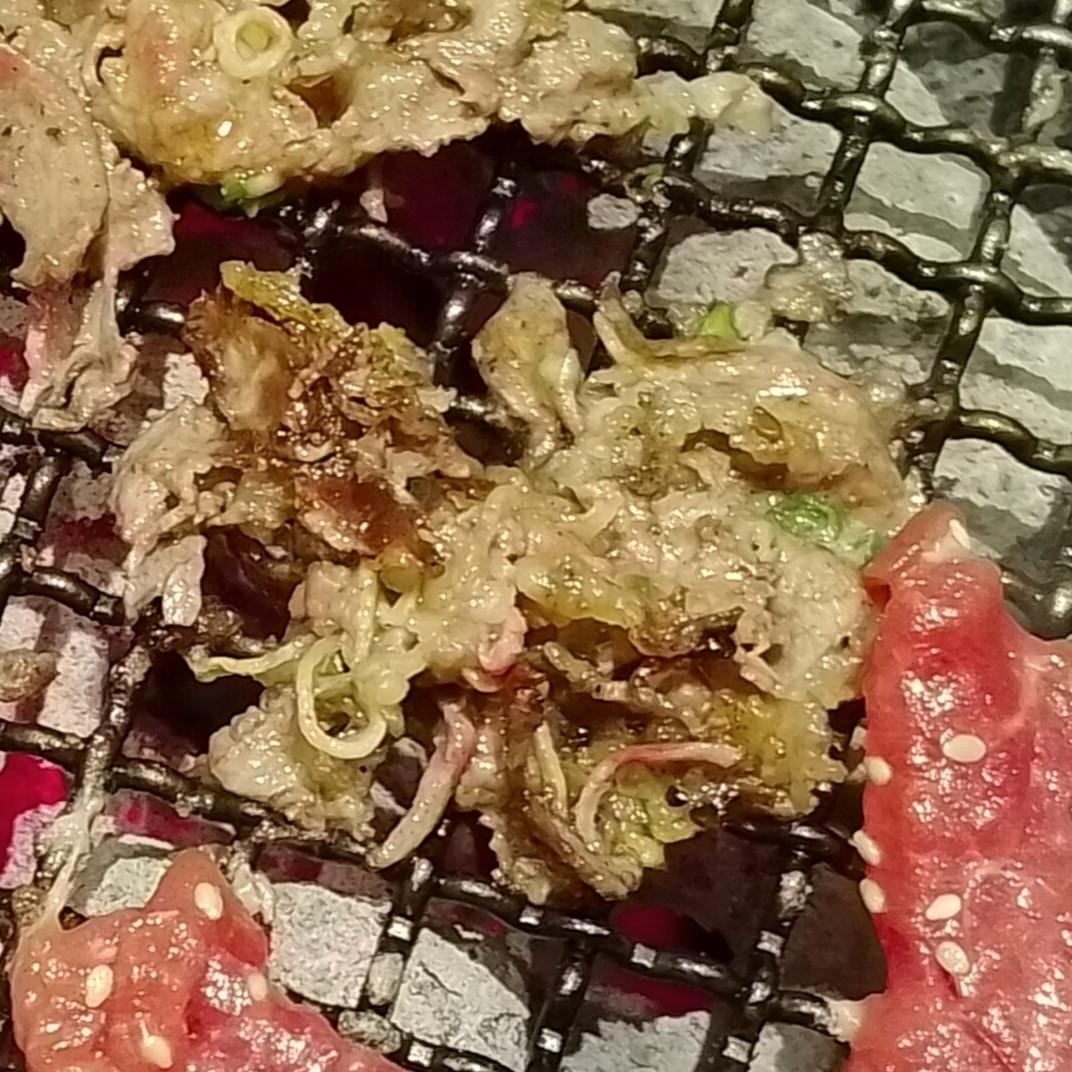Undercooked: (845, 503, 1071, 1071), (7, 846, 403, 1071)
Well-Cooked: (139, 262, 906, 897), (72, 0, 768, 197), (0, 0, 174, 430)
